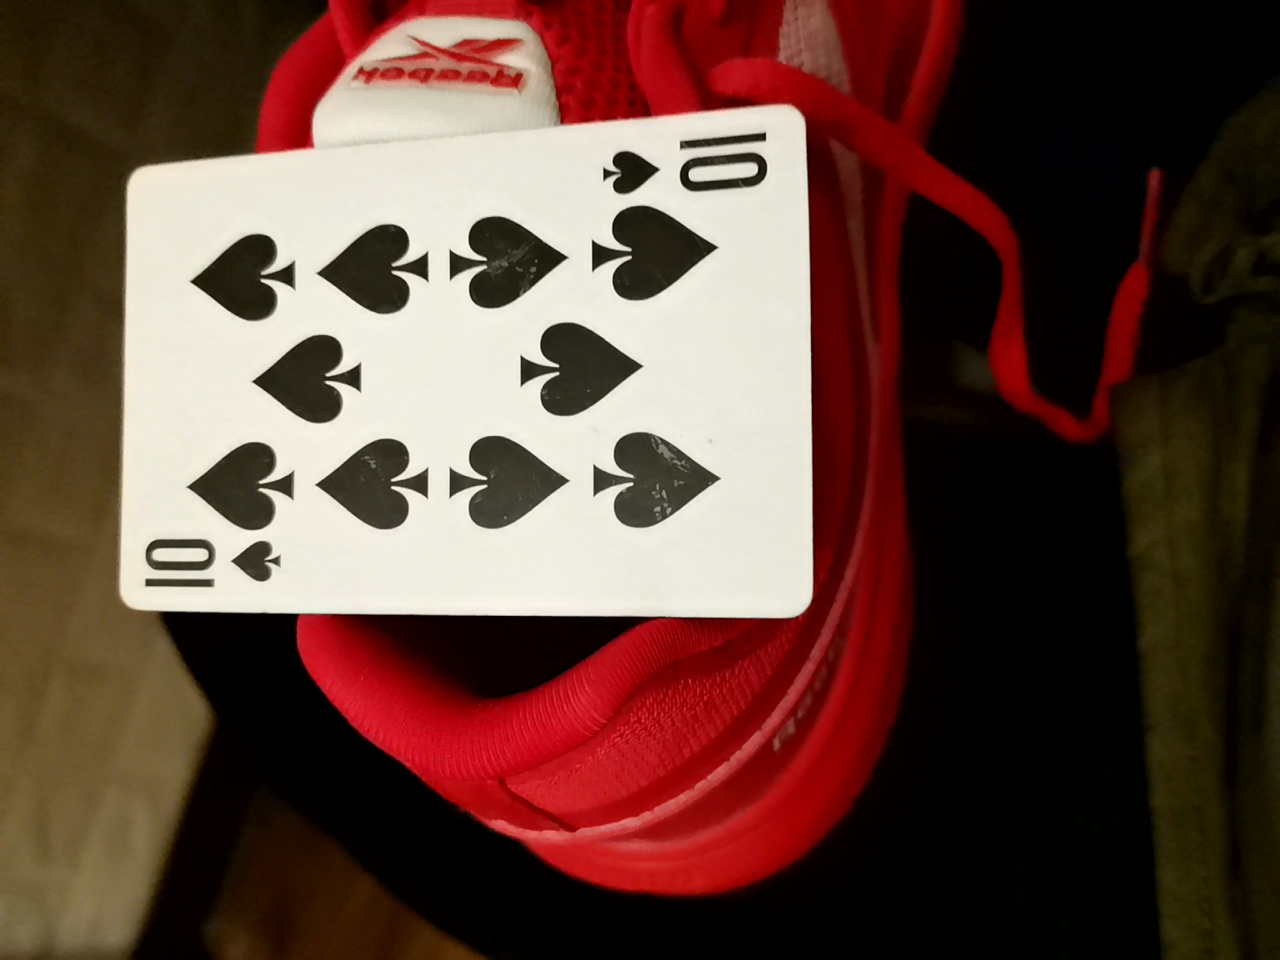ht 10: (89, 112, 833, 618)
